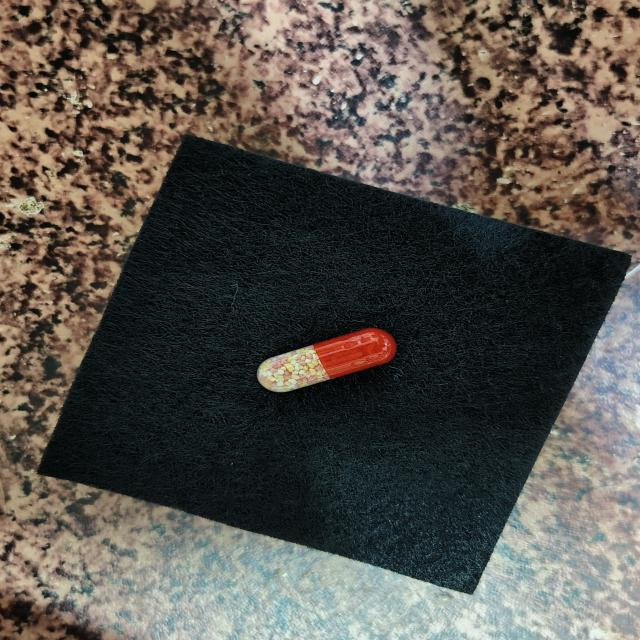Intact Capsule: (257, 328, 396, 392)
